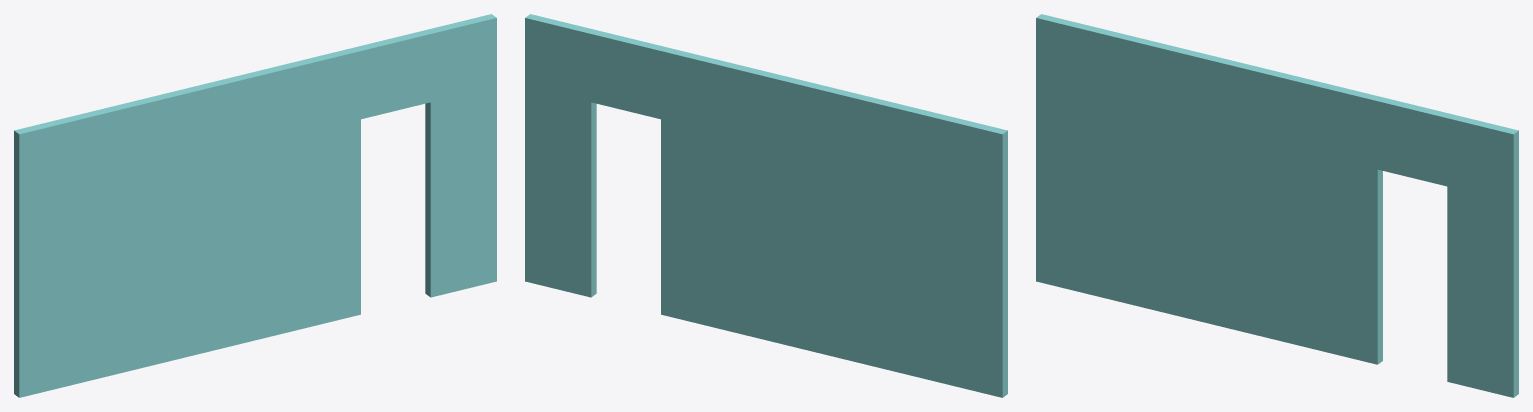
The model's file is Wall_with_door.glb.
3 views of the same model, side by side, from view 1: azimuth 30°, elevation 25°; view 2: azimuth 150°, elevation 25°; view 3: azimuth 330°, elevation 25° (orthographic).
Parts seen in each view (by area): view 1: MainRoom_West_Wall; view 2: MainRoom_West_Wall; view 3: MainRoom_West_Wall.
Boxes of the visible parts, box(x1,y1,x2,y2) form: MainRoom_West_Wall: box(14, 14, 496, 397); MainRoom_West_Wall: box(525, 14, 1007, 397); MainRoom_West_Wall: box(1036, 14, 1518, 397).
Bounding box in the file's own units: 5.2 × 2.74 × 0.1.
